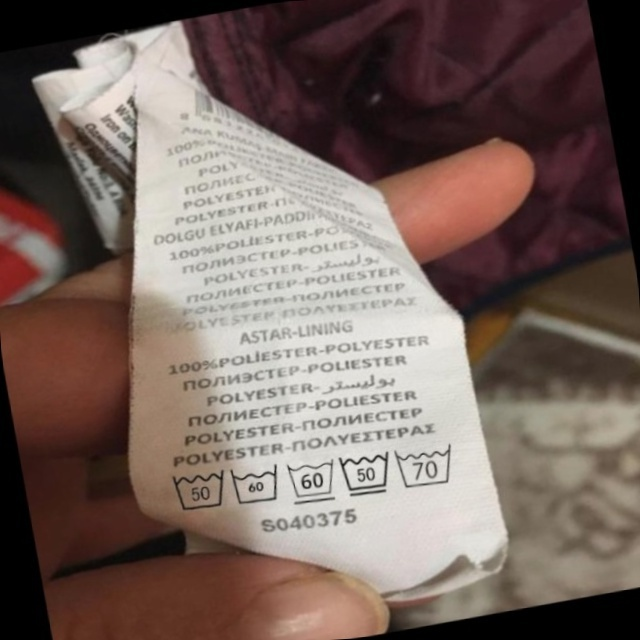50C: (164, 459, 235, 520), (335, 444, 400, 503)
60C: (283, 451, 345, 508), (226, 457, 289, 513)
70C: (392, 437, 465, 494)
